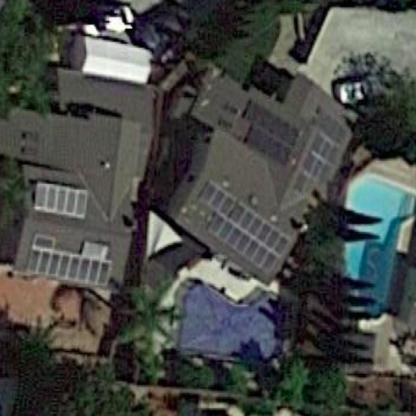car: (328, 73, 396, 105)
solar_panel: (194, 174, 291, 275), (17, 233, 116, 287), (292, 103, 346, 201), (233, 95, 301, 163), (32, 176, 92, 226)
swimming_pool: (159, 270, 307, 375), (328, 161, 410, 330)
